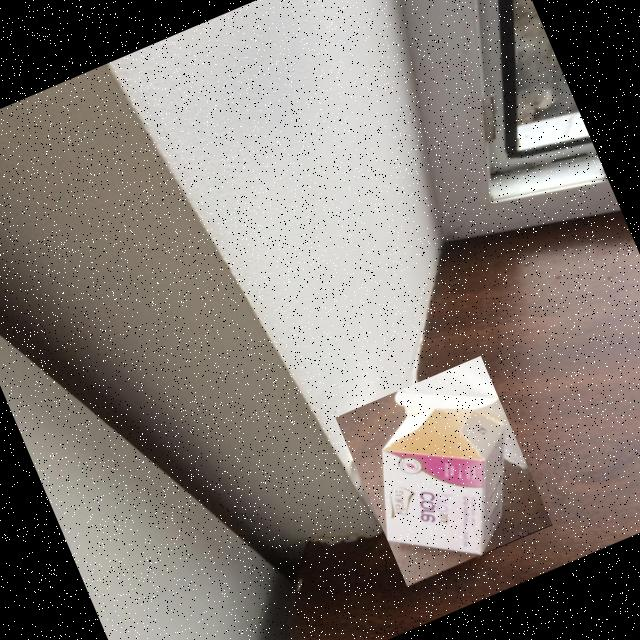Other carton: (383, 391, 506, 554)
